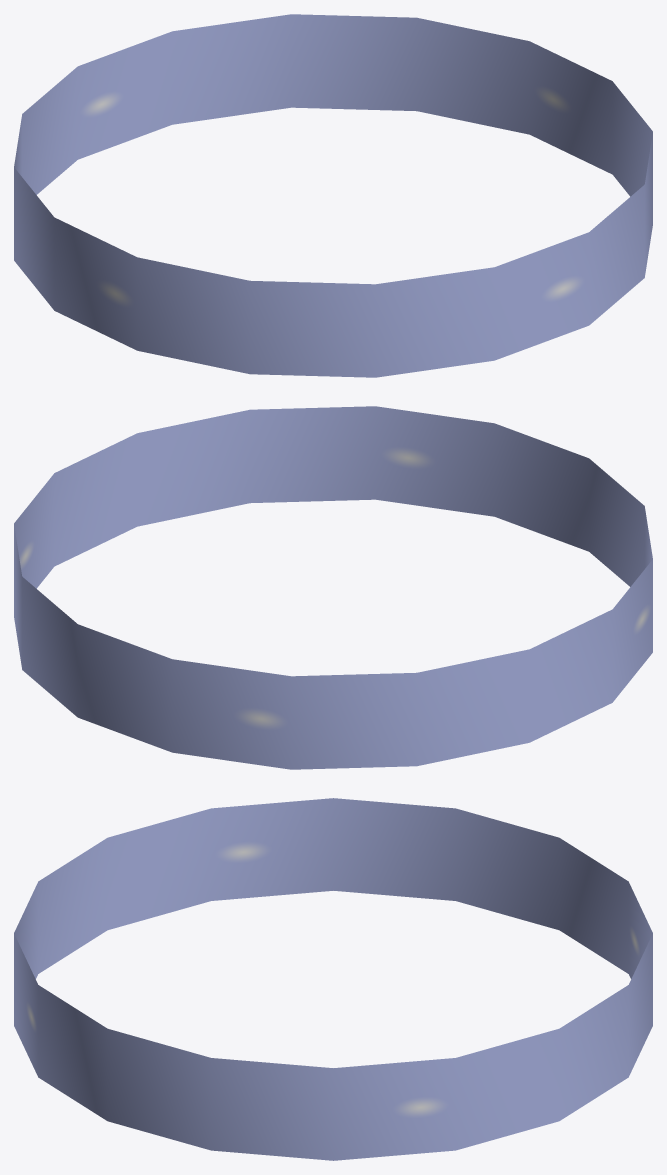
Rendered from hc_fx_teleport.obj.
The picture shows the model from 3 angles, top to bottom: view 1: azimuth 30°, elevation 25°; view 2: azimuth 150°, elevation 25°; view 3: azimuth 270°, elevation 25°; orthographic projection.
Visible parts, largest first — view 1: pCylinder1; view 2: pCylinder1; view 3: pCylinder1.
Part boxes in pixels (x1=…): pCylinder1: x1=14, y1=14, x2=652, y2=377; pCylinder1: x1=14, y1=406, x2=652, y2=769; pCylinder1: x1=14, y1=798, x2=652, y2=1160.
Size of the model in its own units: 182 by 29.05 by 182.
